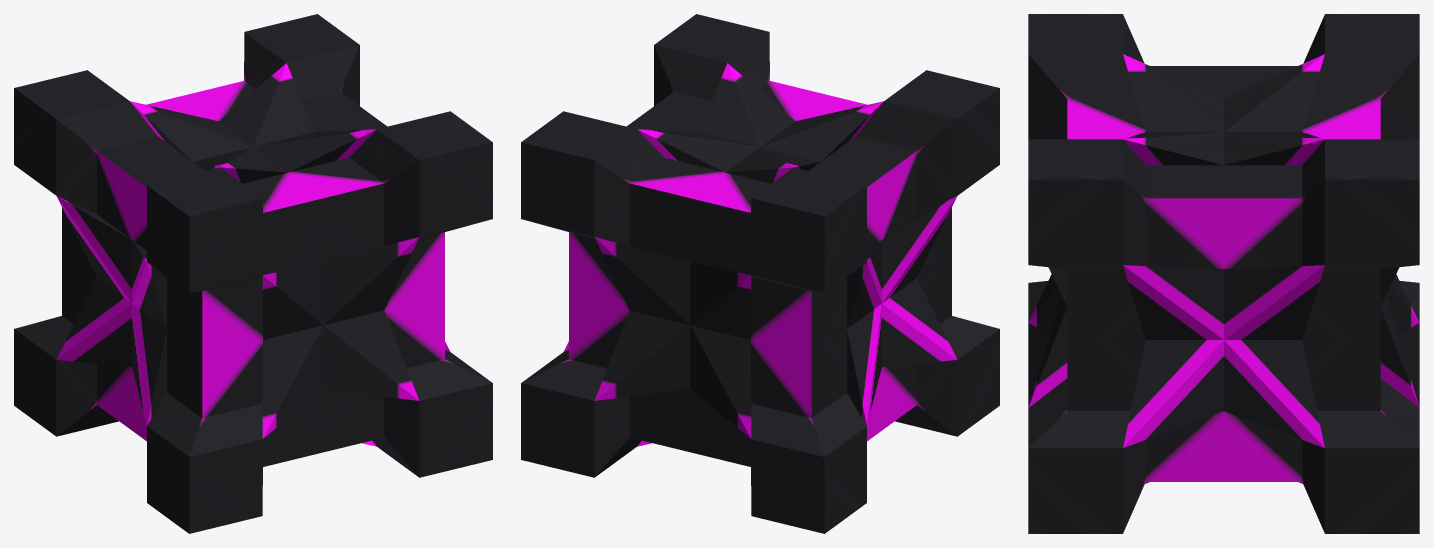
Rendered from creative_cache.obj.
3 views of the same model, side by side, from view 1: azimuth 30°, elevation 25°; view 2: azimuth 150°, elevation 25°; view 3: azimuth 270°, elevation 25° (orthographic). The views are drawn at different scales.
Parts seen in each view (by area): view 1: Creative_Cache_ccmdl; view 2: Creative_Cache_ccmdl; view 3: Creative_Cache_ccmdl.
Part boxes in pixels (x1=…): Creative_Cache_ccmdl: x1=14, y1=14, x2=492, y2=533; Creative_Cache_ccmdl: x1=521, y1=14, x2=999, y2=533; Creative_Cache_ccmdl: x1=1028, y1=14, x2=1419, y2=533.
Bounding box in the file's own units: 1 × 1 × 1.
